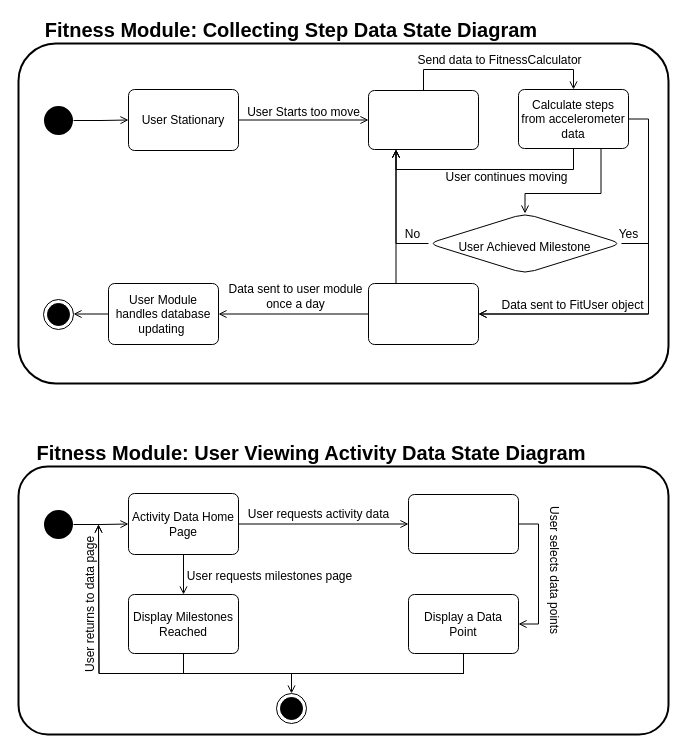
Some shapes in this 686 by 752 pixel diagram are drawn without their labels. Here are the shapes that lost their labels. From the top down, the centre of each, then its label:
[423,120]: User Walking
[423,313]: FitUser saves data locally
[463,524]: Display List of Data Points
